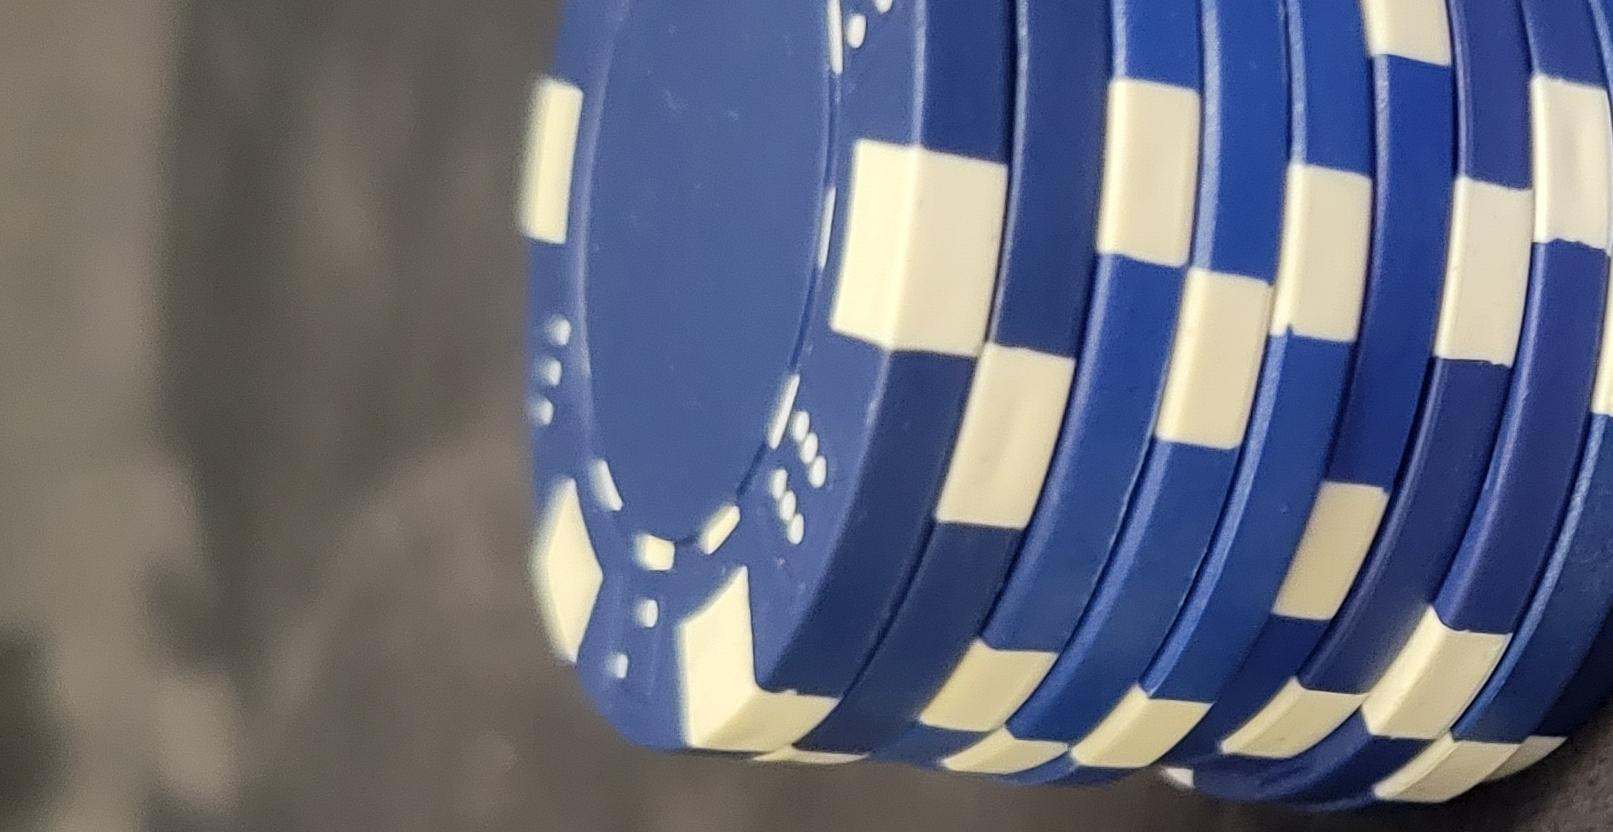Chip: (1, 264, 1142, 832)
